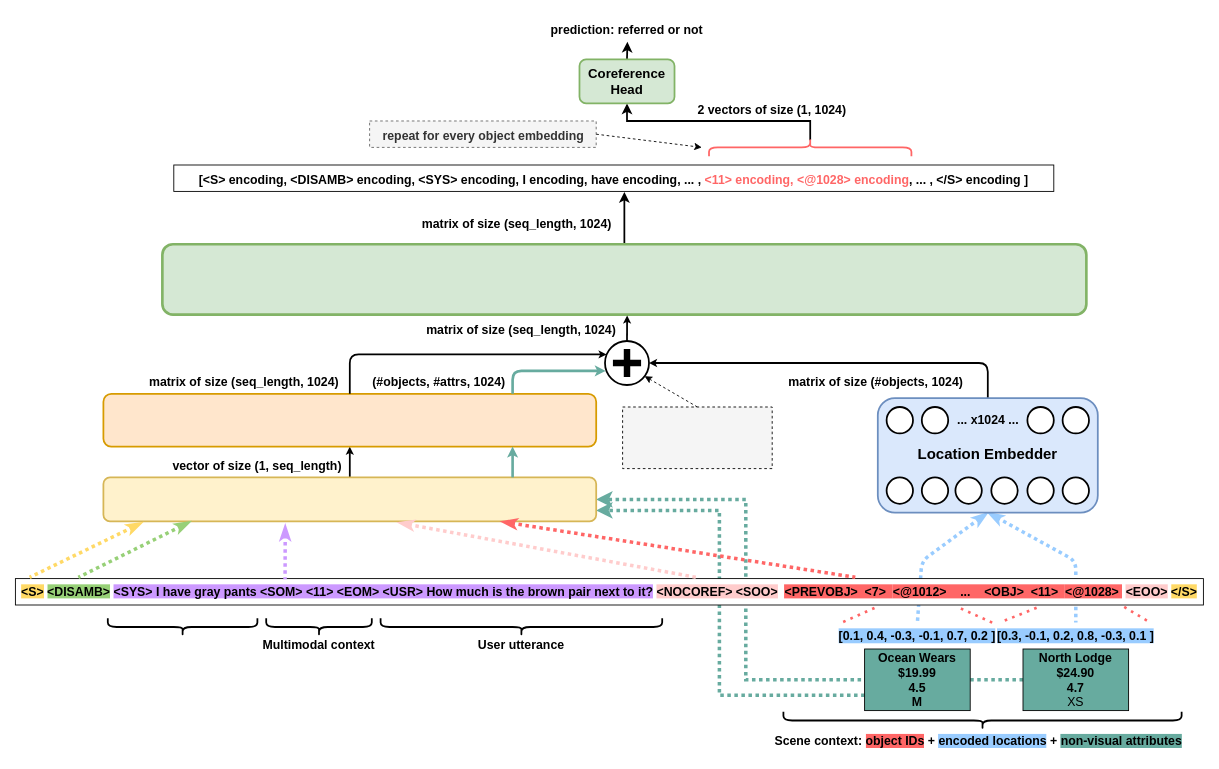
Image size: 1219x769. Some labels were removed from this diagram. The shapes that lost their labels are listed below. From the top down, each one's centre as x and y in pixels, then its label:
(624,278): BART Encoder
(349,419): BART Embedder
(697,437): object embeddings + location embeddings + attribute embeddings
(349,499): BART Tokenizer
(182,626): System utterance
